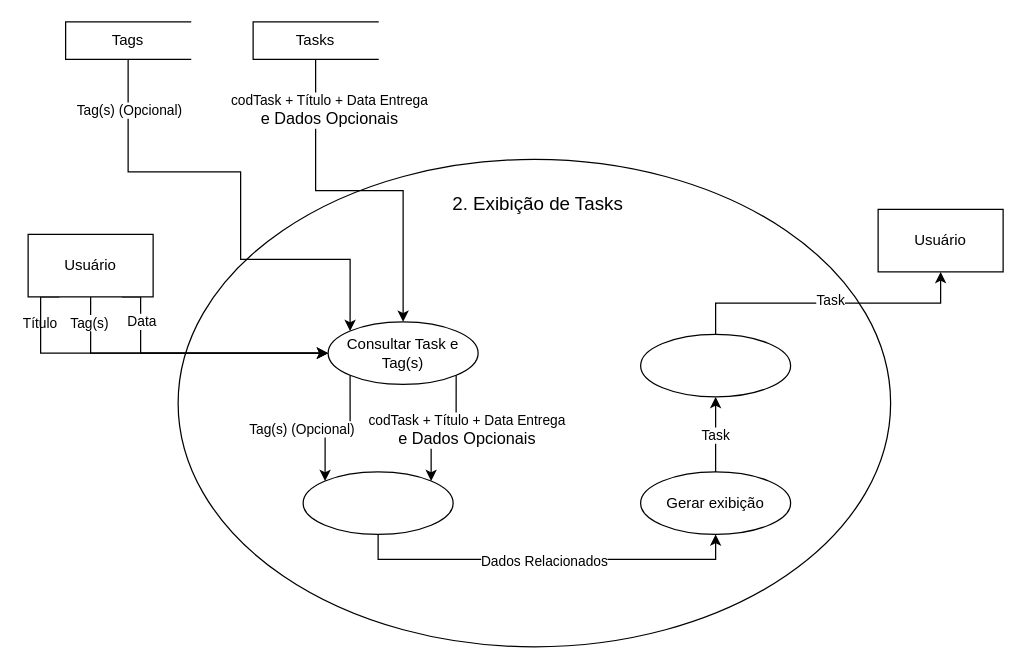
Image size: 1025x669. Some labels were removed from this diagram. Here are the shapes that lost their labels. From the top down, the box of each, then its label:
(639, 333, 791, 397): Apresentar exibição
(302, 471, 453, 534): Relacionar Task com Tag(s)
